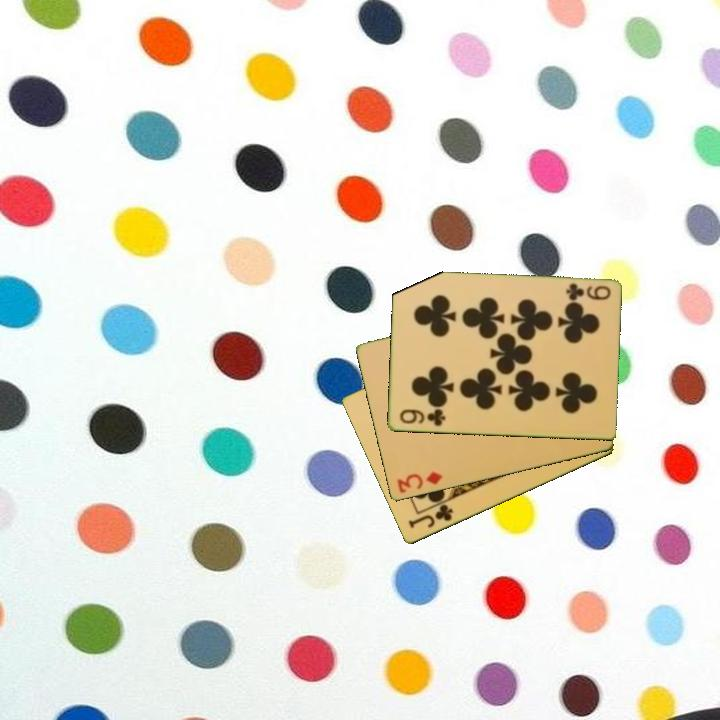3d: (393, 467, 445, 496)
9c: (396, 406, 448, 429), (562, 280, 613, 303)
Jc: (405, 501, 456, 532)
